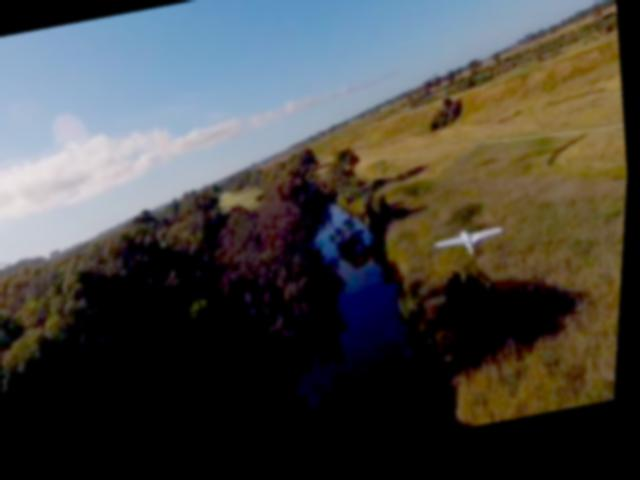uav: (434, 227, 509, 271)
